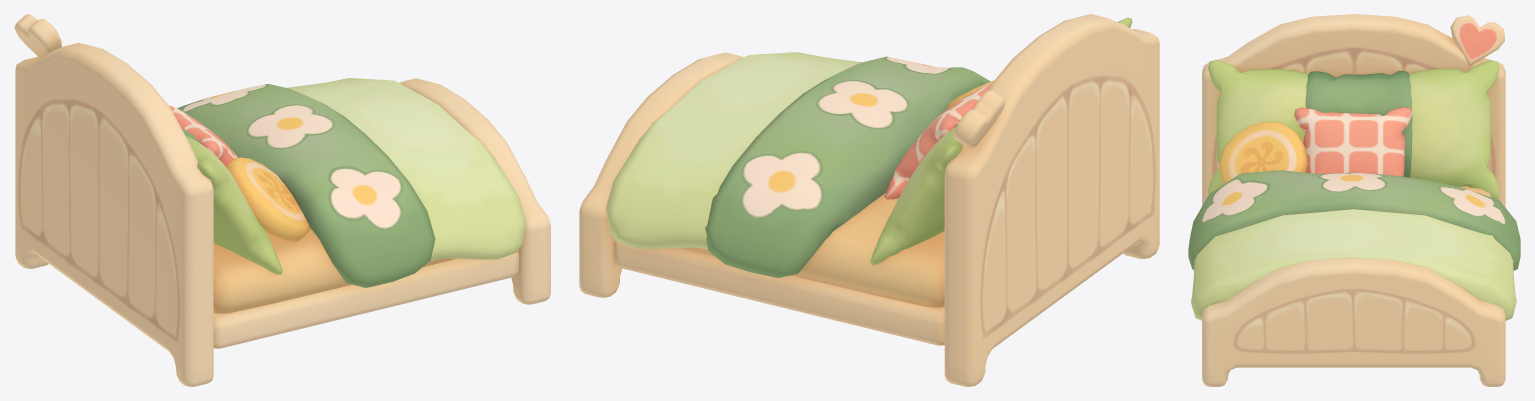
Rendered from cute_stylized_bed_-_low_poly_-_game_ready.glb.
The picture shows the model from 3 angles, left to right: view 1: azimuth 30°, elevation 25°; view 2: azimuth 150°, elevation 25°; view 3: azimuth 270°, elevation 25°; orthographic projection. The views are drawn at different scales.
Parts seen in each view (by area): view 1: Plane, Plane.003, Plane.001, Plane.009, Plane.002, Plane.008, Plane.004, Plane.007, Circle, Plane.005; view 2: Plane, Plane.003, Plane.001, Plane.009, Plane.002, Plane.008, Plane.004, Plane.005, Circle; view 3: Plane.008, Plane.001, Plane.004, Plane, Plane.003, Plane.005, Plane.006, Plane.007, Circle.
Boxes of the visible parts, box(x1,y1,x2,y2) form: Plane: box(15, 43, 213, 386); Plane.003: box(177, 84, 435, 287); Plane.001: box(286, 78, 526, 261); Plane.009: box(213, 251, 518, 348); Plane.002: box(213, 229, 455, 313); Plane.008: box(399, 78, 550, 304); Plane.004: box(186, 136, 282, 274); Plane.007: box(226, 157, 310, 241); Circle: box(14, 14, 62, 57); Plane.005: box(169, 105, 237, 166); Plane: box(944, 14, 1159, 386); Plane.003: box(705, 56, 990, 278); Plane.001: box(606, 52, 861, 249); Plane.009: box(613, 240, 944, 345); Plane.002: box(682, 193, 944, 307); Plane.008: box(579, 52, 743, 297); Plane.004: box(870, 17, 1132, 265); Plane.005: box(884, 82, 992, 199); Circle: box(953, 89, 1005, 147); Plane.008: box(1202, 257, 1505, 386); Plane.001: box(1191, 209, 1516, 320); Plane.004: box(1207, 60, 1499, 198); Plane: box(1202, 14, 1505, 207); Plane.003: box(1188, 170, 1520, 270); Plane.005: box(1294, 107, 1412, 176); Plane.006: box(1305, 70, 1412, 177); Plane.007: box(1219, 121, 1307, 183); Circle: box(1450, 15, 1504, 66).
Bounding box in the file's own units: 1.88 × 1.26 × 1.69.
1 material, 1 textured.
